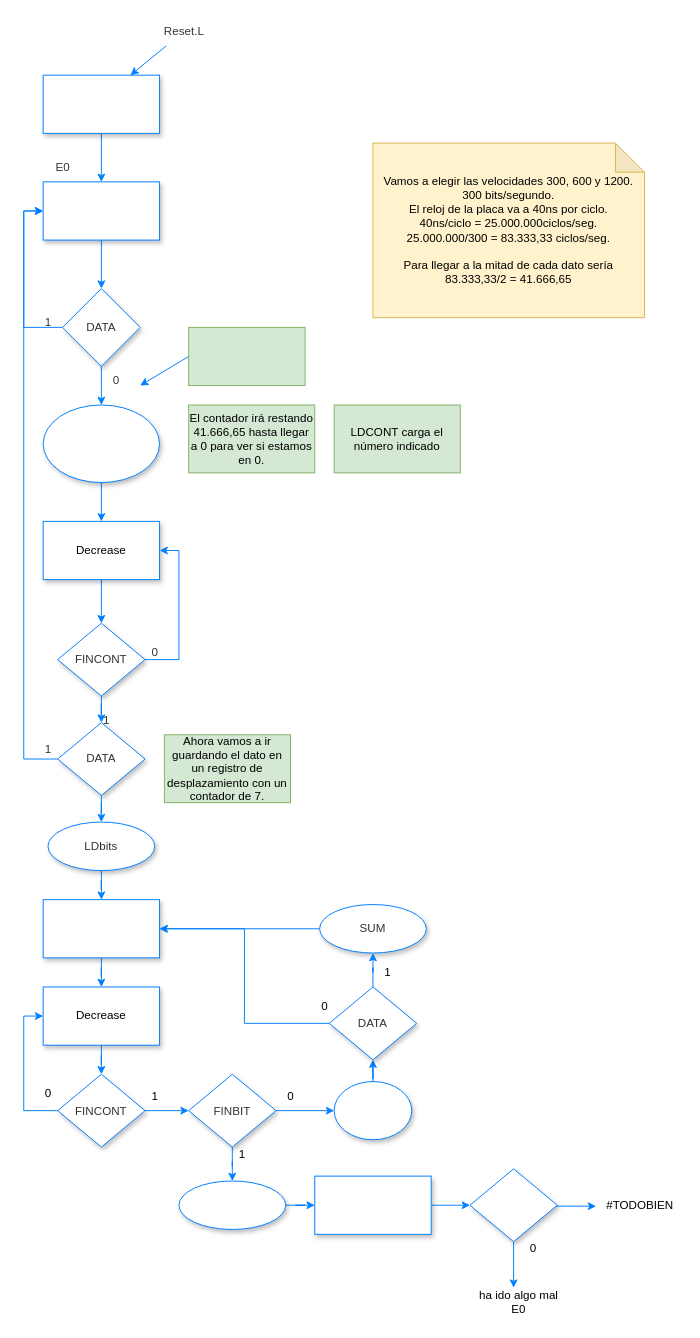
The diagram is 700 pixels wide and 1338 high, and some of its shapes have lost their labels. Each missing label, with the centre of its shape:
"CLEAR" goes at (101,105).
"DCONT LDCONT" goes at (101,930).
"Esto significa que ya empieza a entrar el dato." goes at (246,356).
"Iguales" goes at (514,1206).
"LDCONT=1 DCONT=0" goes at (101,444).
"LDPARITY" goes at (232,1206).
"SHIFT NEXTBIT" goes at (373,1112).
